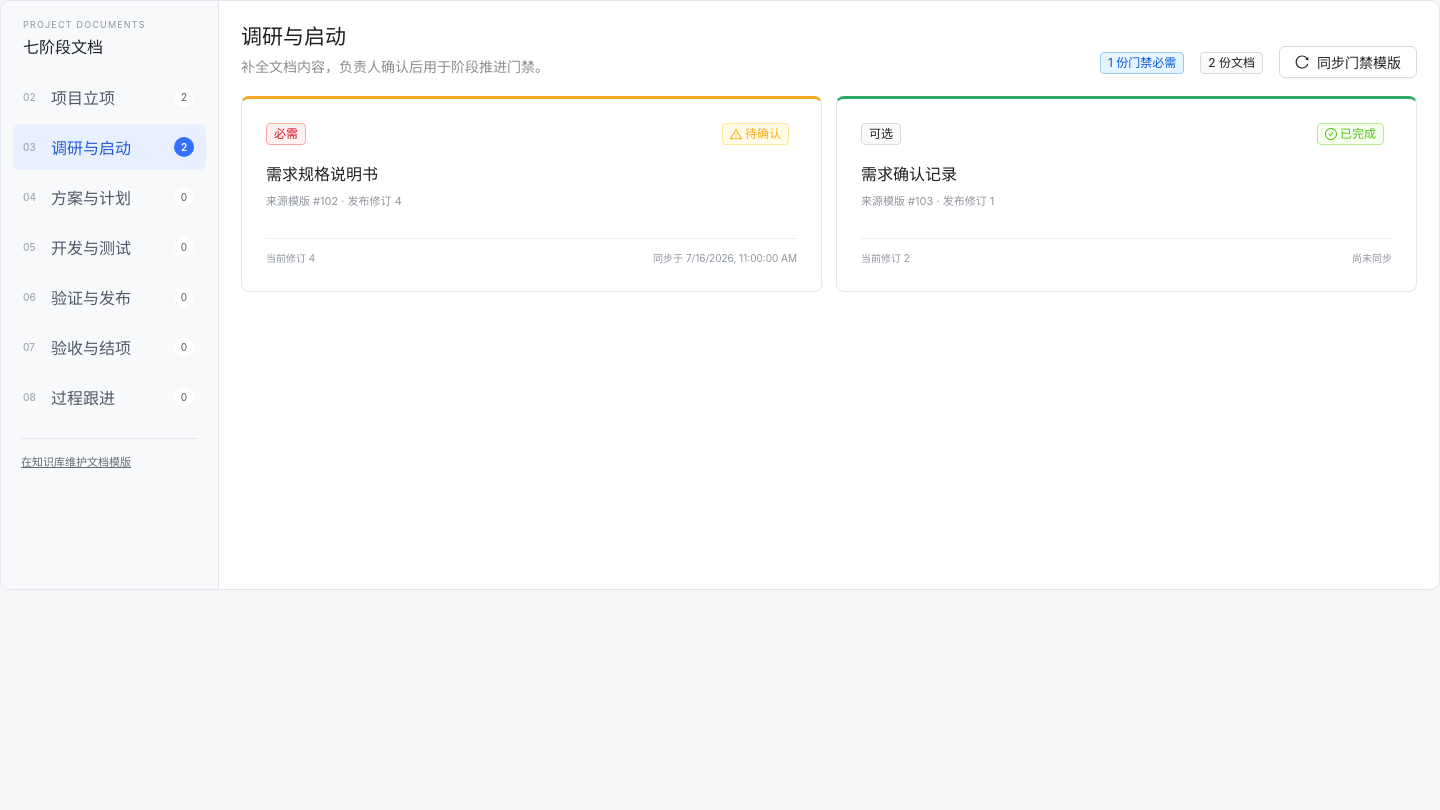
Test: 按七阶段展示项目文档卡片并默认定位当前阶段
The image size is (1440, 810).
Expected: the heading "需求规格说明书" is shown, left=266, top=164, right=378, bottom=184
Expected: the text "待确认" is shown, left=722, top=123, right=789, bottom=145
Click the button "02 项目立项 2": (110,97) left=13, top=74, right=206, bottom=120
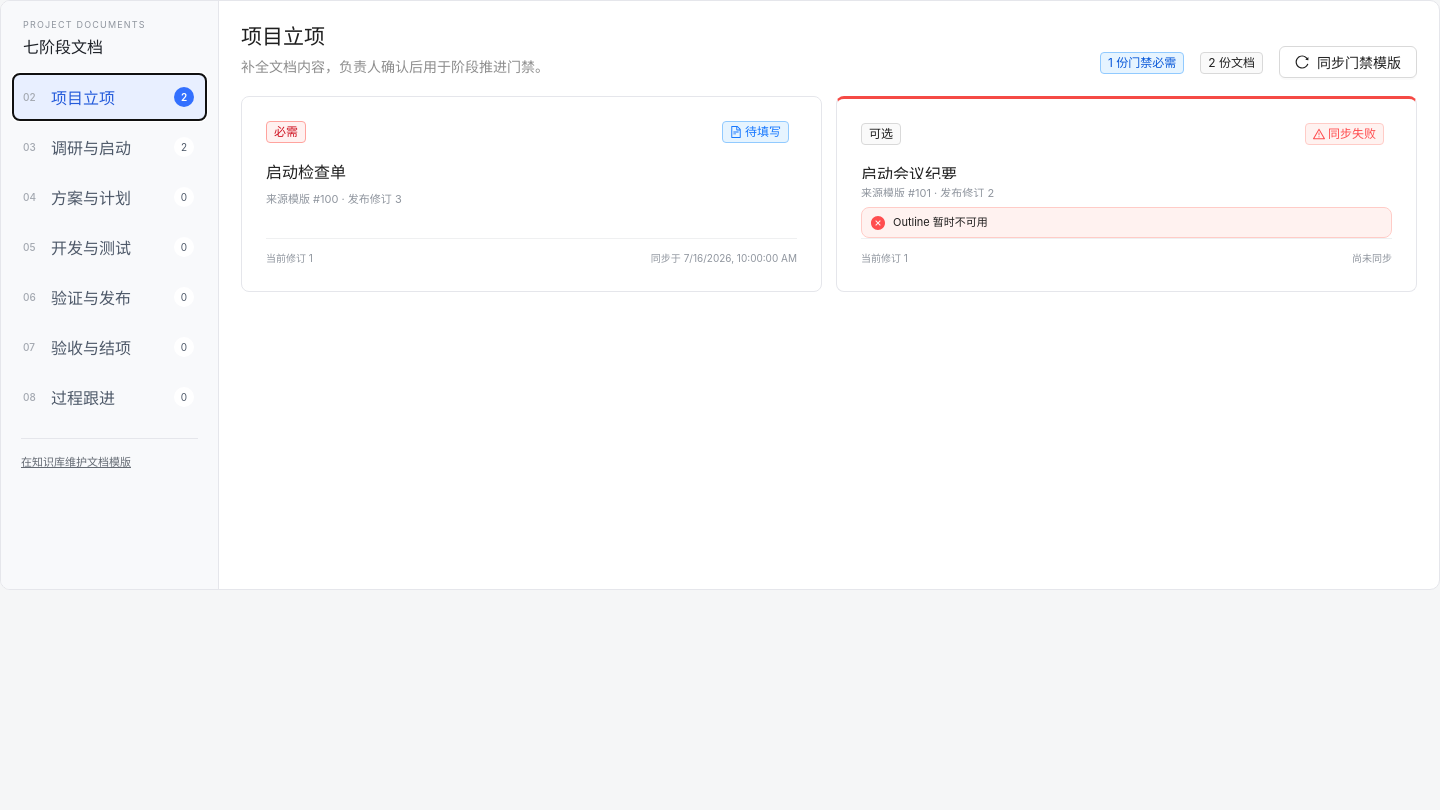
Expected: the heading "启动检查单" is shown, left=266, top=162, right=346, bottom=182
Expected: the text "待填写" is shown, left=722, top=121, right=789, bottom=143
Expected: the text "同步失败" is shown, left=1305, top=123, right=1384, bottom=145
